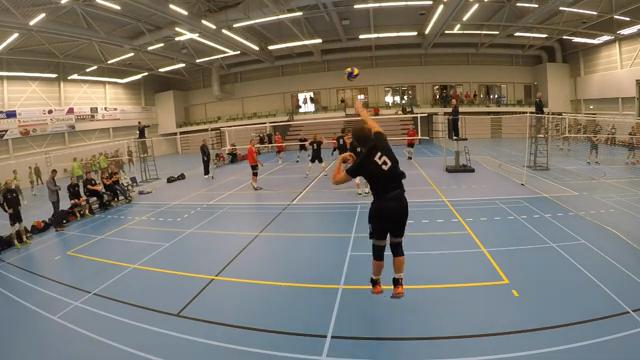Player: (306, 135, 327, 176), (247, 139, 262, 190), (296, 132, 309, 162), (336, 128, 349, 155), (406, 125, 416, 160), (275, 132, 284, 163), (355, 177, 369, 194), (331, 133, 336, 158)
Serve: (327, 94, 416, 298)
